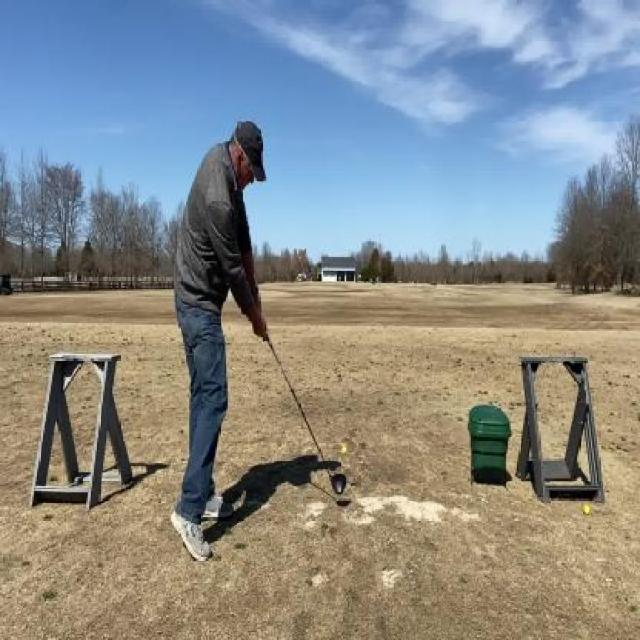club head: (327, 468, 347, 495)
